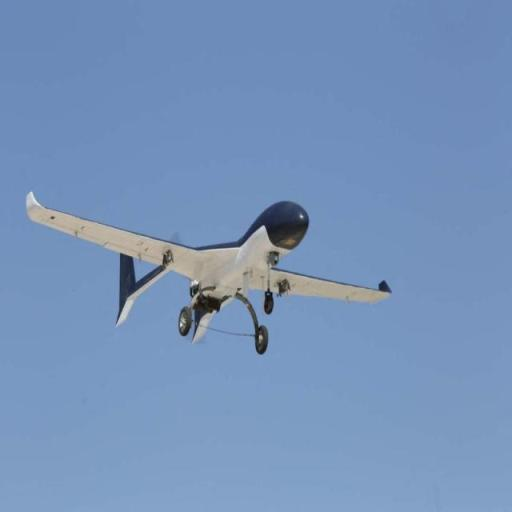uav: (20, 185, 396, 362)
